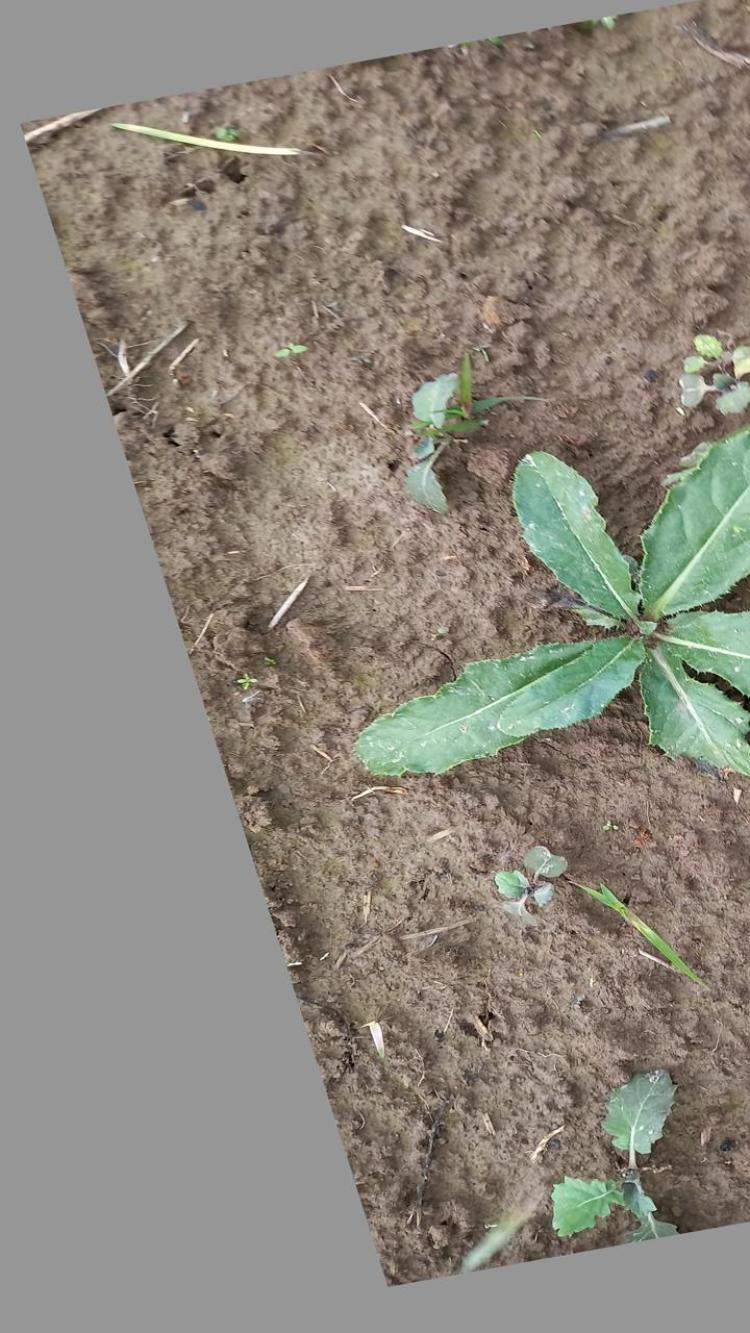bodyak: (327, 446, 750, 791)
